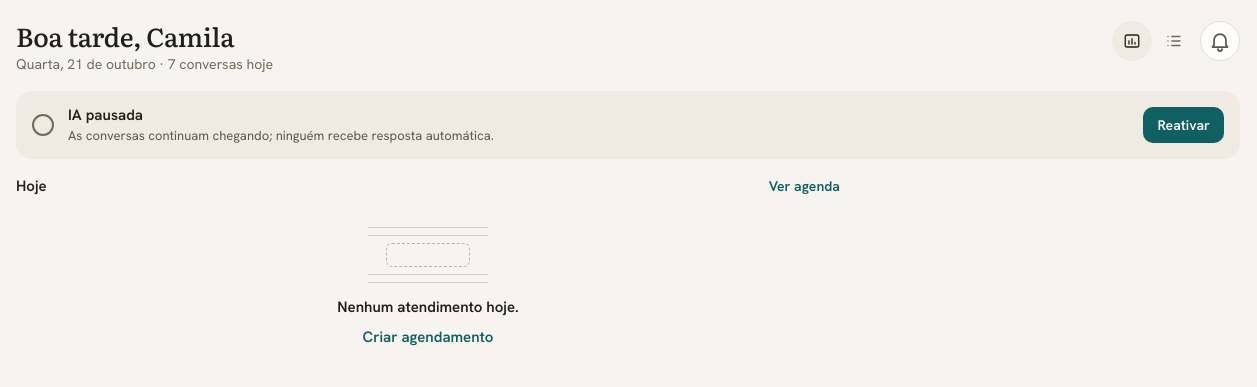
Test case: Goal117: IA pausada e Reativar (H5) › outra falha ao reativar mostra role=alert
Expected: the heading "Boa tarde, Camila" is shown, [16,16,234,55]
Click the button "Reativar".
click(1184, 125)  # box [1143,103,1224,147]
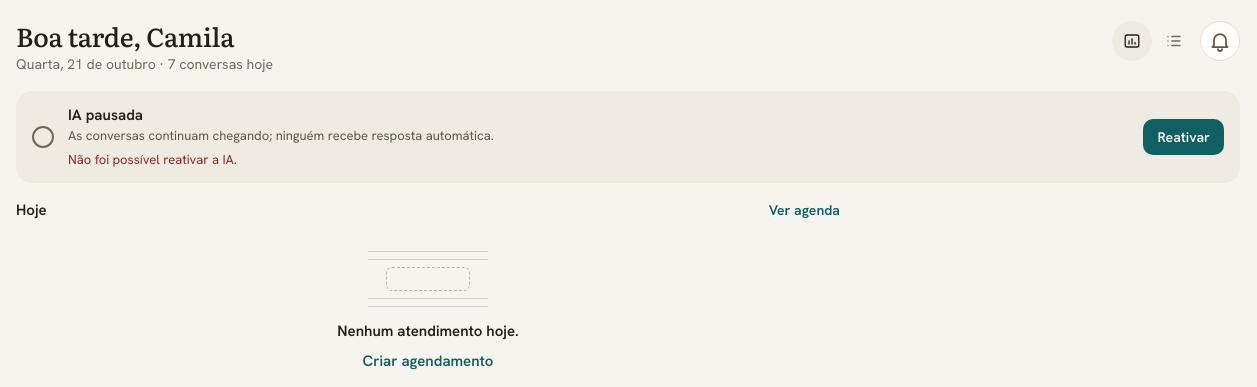
Now the message reads "Não foi possível reativar a IA.", box [68,151,237,168]
